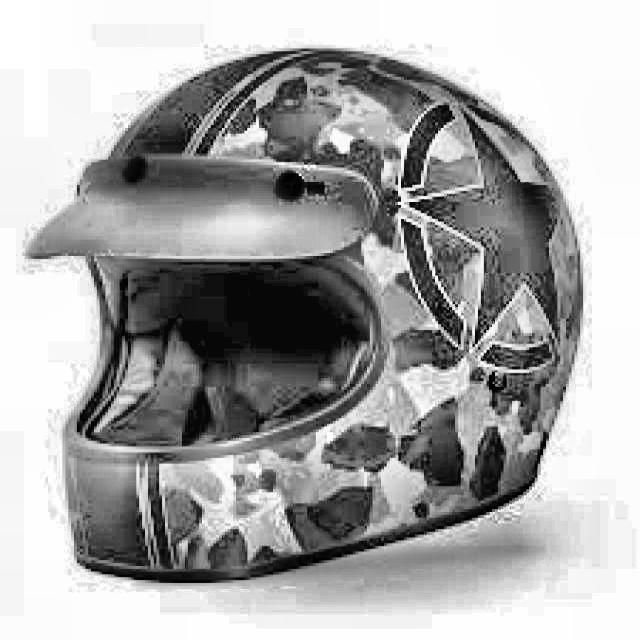Helmet: (18, 48, 588, 588)
